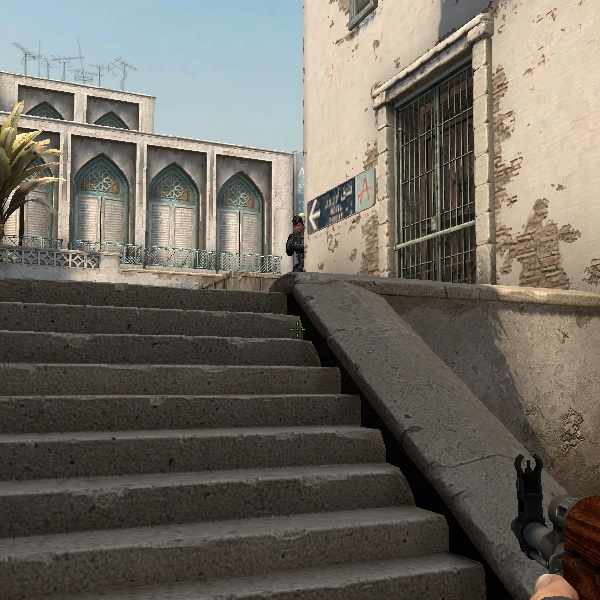ct_body: (285, 216, 305, 273)
ct_head: (292, 216, 303, 235)
